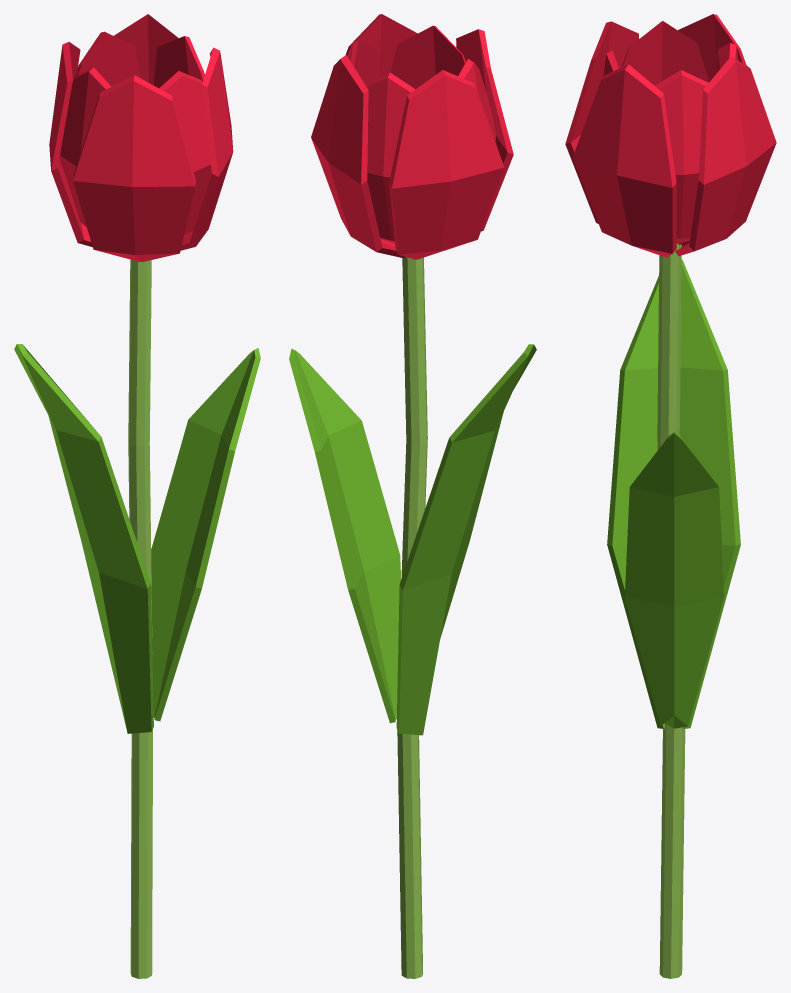
The model's file is Tulip.fbx.
The picture shows the model from 3 angles, left to right: view 1: azimuth 30°, elevation 25°; view 2: azimuth 150°, elevation 25°; view 3: azimuth 270°, elevation 25°; orthographic projection.
Visible parts, largest first — view 1: Tulip; view 2: Tulip; view 3: Tulip.
Part boxes in pixels (left/top/right/bottom): Tulip: left=14, top=14, right=260, bottom=978; Tulip: left=289, top=14, right=536, bottom=978; Tulip: left=565, top=14, right=776, bottom=978.
Size of the model in its own units: 0.5244 by 1.93 by 0.3948.
